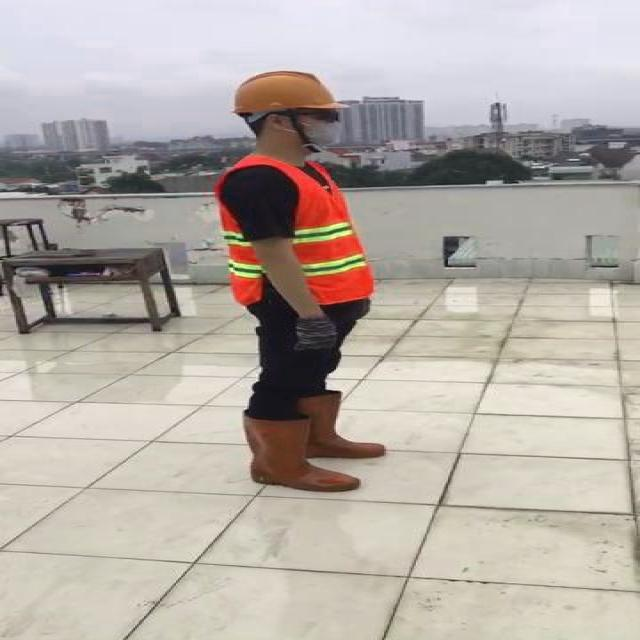boots: (238, 410, 364, 491), (302, 388, 384, 461)
face_mask: (292, 107, 346, 149)
glasses: (297, 105, 345, 125)
hand_glove: (290, 315, 341, 353)
head_helmet: (228, 68, 346, 116)
person: (206, 64, 396, 499)
vest: (219, 156, 375, 304)
